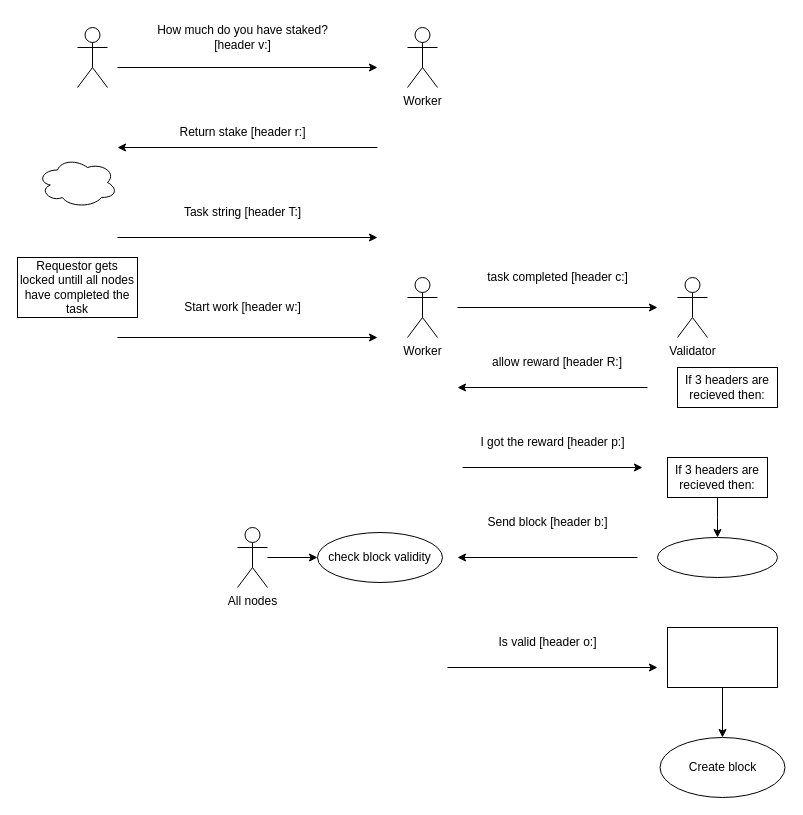
Image size: 803x815. Some labels were removed from this diagram. Each missing label, with the box of its shape:
if all nodes agree: (666, 626, 778, 688)
logic for validator: (36, 156, 118, 208)
Requestor: (76, 26, 108, 88)
Validate blockchain: (656, 536, 778, 578)
